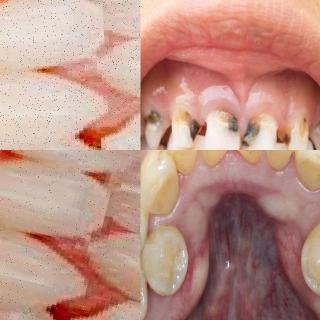Gum Swelling: (170, 89, 293, 137)
cavities: (242, 112, 280, 150), (208, 109, 240, 150), (168, 111, 200, 148), (280, 113, 309, 150), (142, 106, 164, 146), (313, 117, 320, 143)
maligned: (140, 215, 198, 302), (291, 222, 320, 304), (141, 190, 155, 260), (200, 150, 232, 165)
